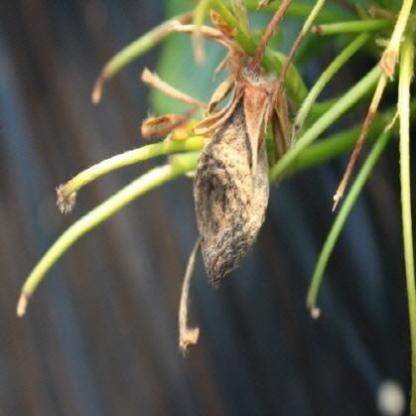Strawberry_Gray_Mold: (167, 20, 289, 290)
